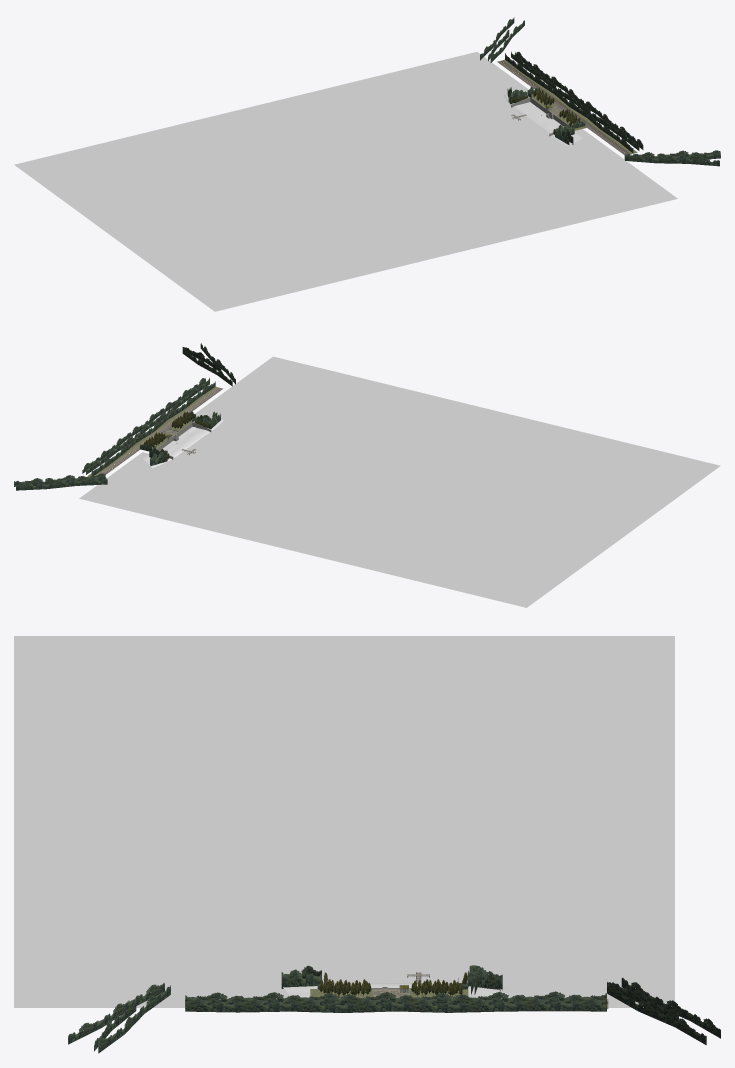
Rendered from Beach.fbx.
3 views of the same model, one above another, from view 1: azimuth 30°, elevation 25°; view 2: azimuth 150°, elevation 25°; view 3: azimuth 270°, elevation 25° (orthographic). The views are drawn at different scales.
Parts seen in each view (by area): view 1: water, trees, forestry, beach; view 2: water, trees, forestry, beach; view 3: water, trees, beach.
Boxes of the visible parts, <box> form: water: <box>14,52,677,311</box>; trees: <box>480,17,720,166</box>; forestry: <box>497,59,637,154</box>; beach: <box>504,94,582,146</box>; water: <box>79,356,720,607</box>; trees: <box>14,343,235,490</box>; forestry: <box>87,386,222,476</box>; beach: <box>142,418,223,467</box>; water: <box>14,636,674,1007</box>; trees: <box>68,965,720,1053</box>; beach: <box>279,982,505,997</box>.
Size of what is drawn, in the model's own units: 615646 by 18521 by 431430.
